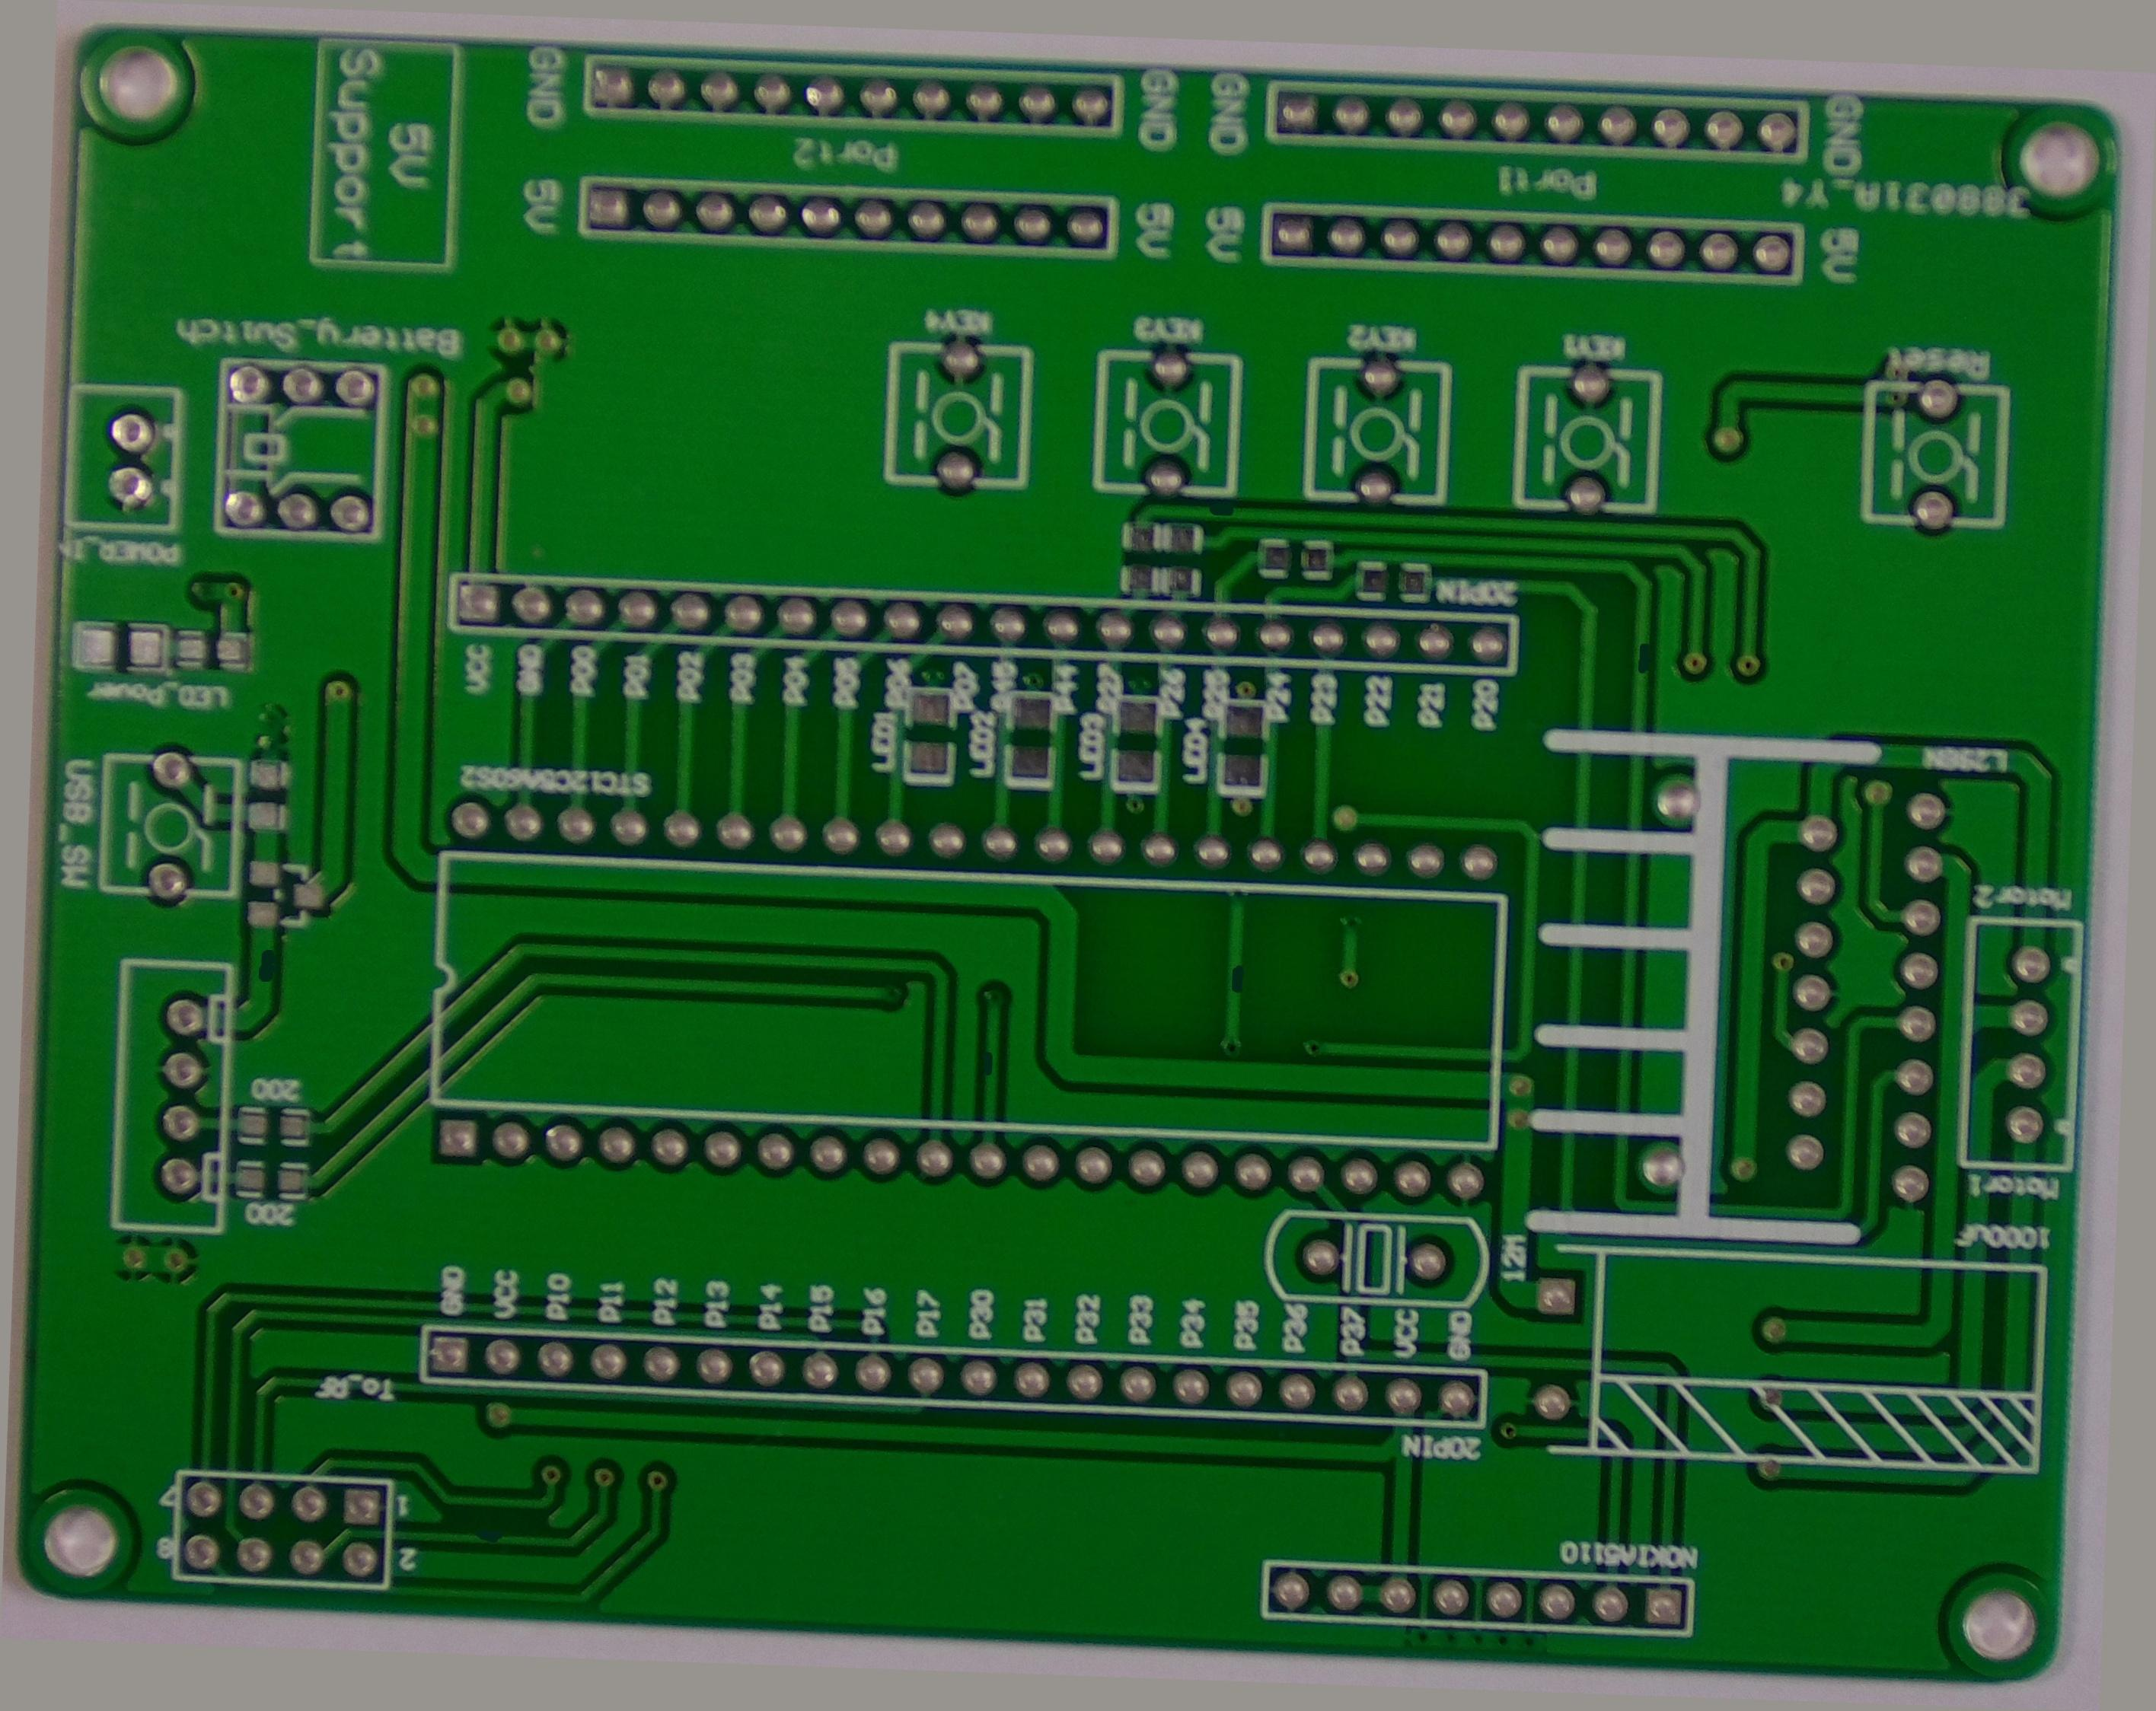mouse_bite: (1223, 953, 1269, 1002), (227, 974, 273, 1022), (973, 1053, 1017, 1100), (1183, 472, 1239, 509), (1633, 605, 1669, 649)
